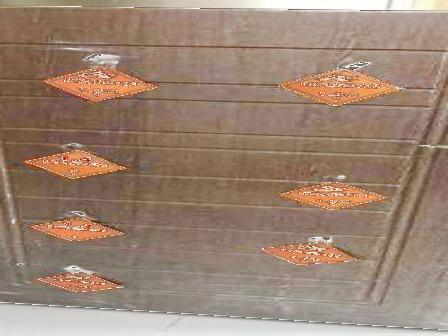explosive: (272, 66, 404, 106), (40, 63, 161, 102), (276, 182, 390, 210), (21, 149, 127, 179), (21, 217, 127, 241), (260, 240, 358, 265), (31, 271, 125, 293)
